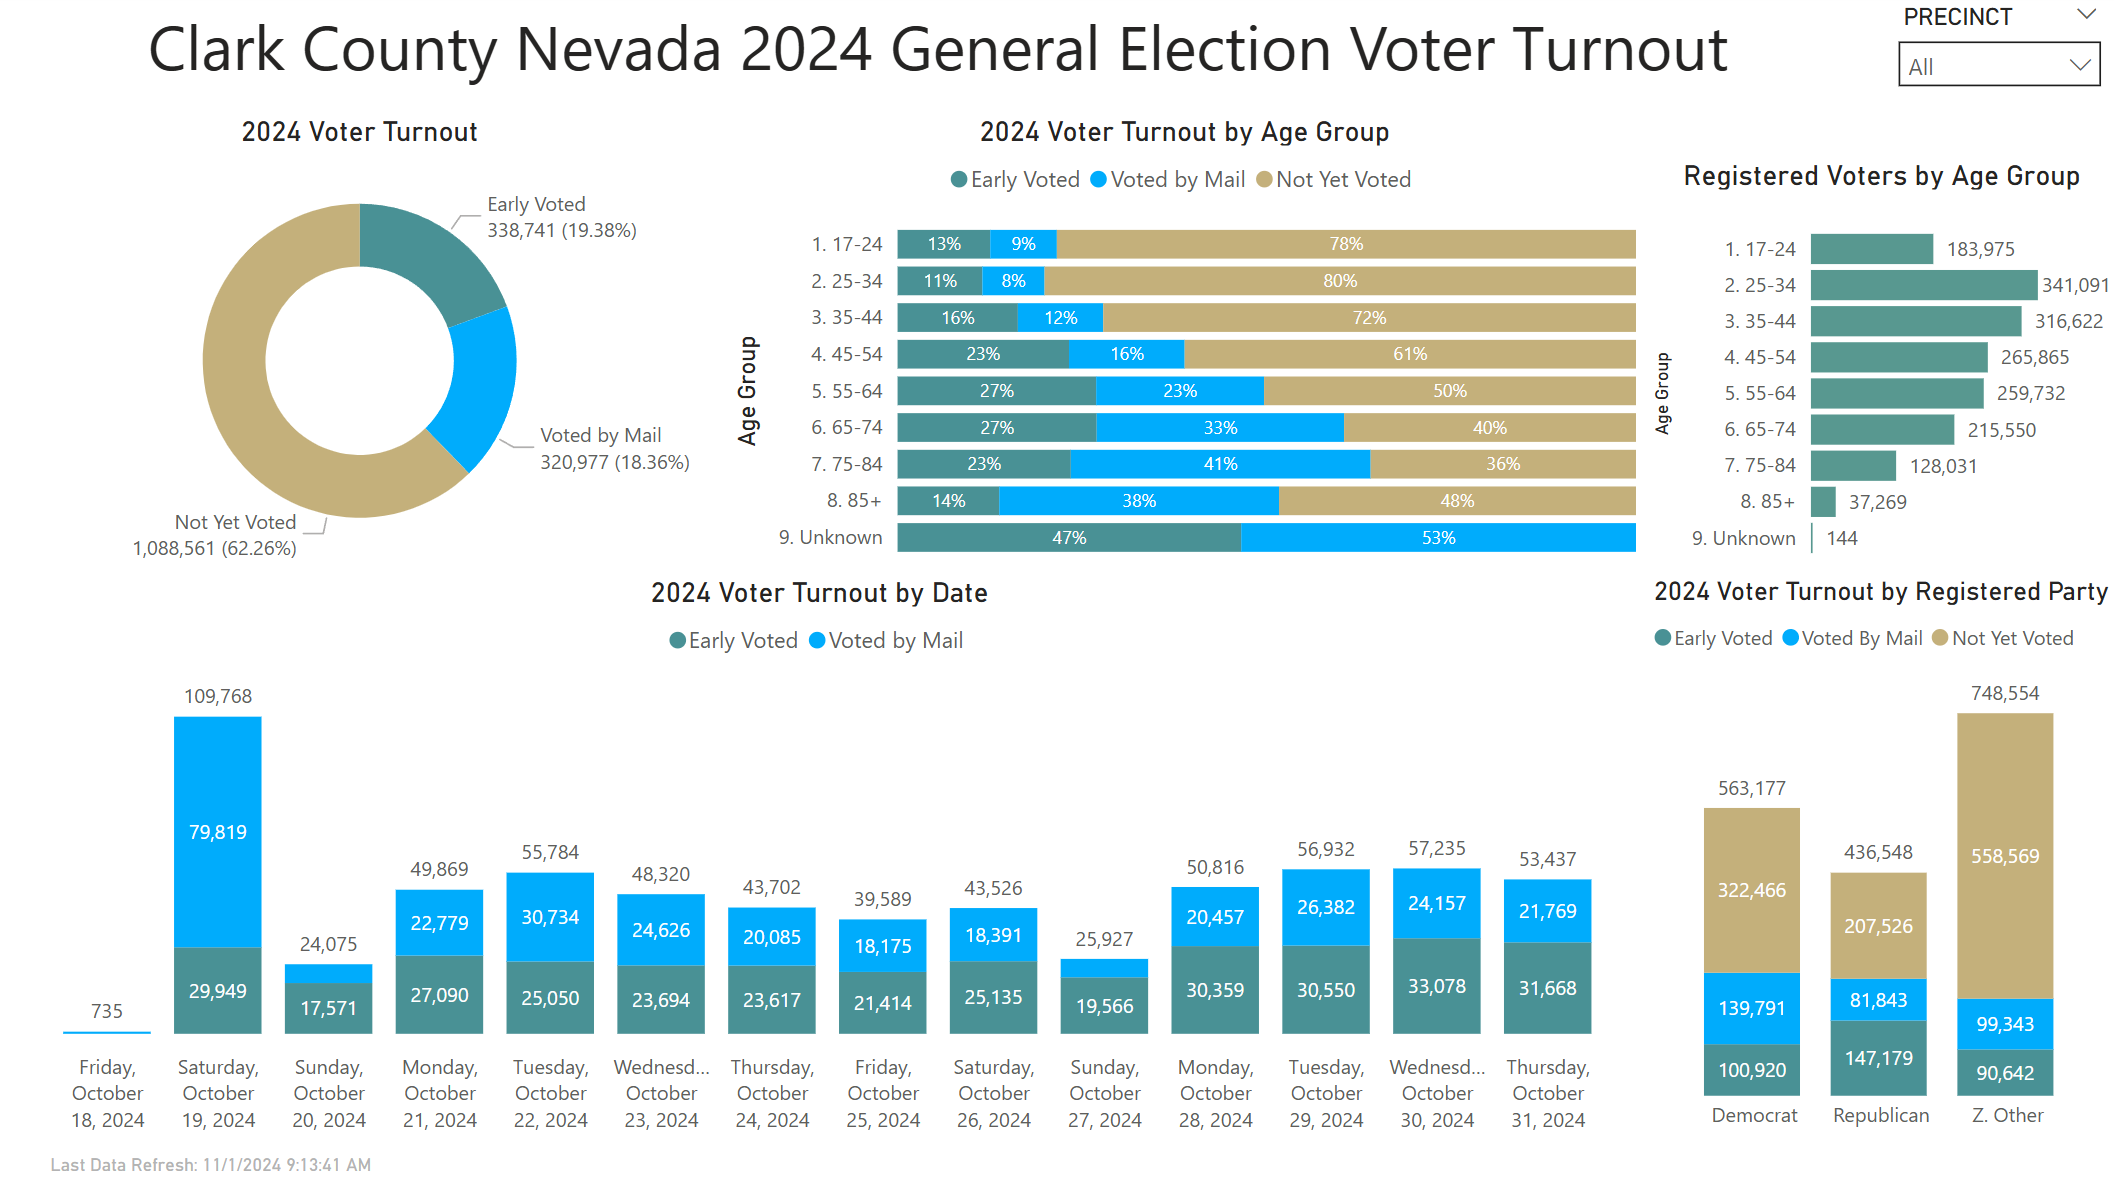

What the dashboard file says about the page in this screenshot:
{"tool":"powerbi","page":{"name":"Dashboard","canvas":[1280,720],"ordinal":0},"visuals":[{"type":"columnChart","title":"2024 Voter Turnout by Date","fields":{"Category":["VoteStatus_20241028.G2024_Voted_Date"],"Y":["Sum(VoteStatus_20241028.Voted_Early)","Sum(VoteStatus_20241028.Voted_Mail)"]},"box":[0,349.7,995.1,343.8],"z":0},{"type":"donutChart","title":"2024 Voter Turnout","fields":{"Y":["Sum(VoteStatus_20241028.Voted_Early)","Sum(VoteStatus_20241028.Voted_Mail)","Sum(VoteStatus_20241028.Not_Voted)"]},"box":[0,71.6,440.7,278.4],"z":1000},{"type":"hundredPercentStackedBarChart","title":"2024 Voter Turnout by Age Group","fields":{"Category":["VoteStatus_20241028.Age_Group"],"Y":["Sum(VoteStatus_20241028.Voted_Early)","Sum(VoteStatus_20241028.Voted_Mail)","Sum(VoteStatus_20241028.Not_Voted)"]},"box":[440.7,71.6,554.1,278.4],"z":2000},{"type":"textbox","title":"Title","box":[0,0,1138,71.6],"z":3000},{"type":"columnChart","title":"2024 Voter Turnout by Registered Party","fields":{"Category":["VoteStatus_20241028.PARTY"],"Y":["Sum(VoteStatus.Voted_Early)","Sum(VoteStatus.Voted_Mail)","Sum(VoteStatus.Not_Voted)"]},"box":[995.1,349.7,284.9,343.8],"z":4000},{"type":"slicer","title":"Precinct Slicer","fields":{"Values":["VoteStatus_20241028.PRECINCT"]},"box":[1138,0,142.4,59.8],"z":5000},{"type":"barChart","title":"Registered Voters by Age Group","fields":{"Category":["VoteStatus_20241028.Age_Group"],"Y":["Sum(VoteStatus.QTY)"]},"box":[994.8,97.9,285.6,252.1],"z":6000},{"type":"card","title":"Last Data Refresh","fields":{"Values":["Reload Time.Refresh Time Label"]},"box":[0,693.5,261.3,26.5],"z":7000}]}

Visuals, with their boxes in screenshot pixels (x1, y1, x2, y2), scaled from the page's 1280x720 canvas onto the 2114x1186 screenshot:
"2024 Voter Turnout by Date" columnChart: box=[0, 576, 1643, 1142]
"2024 Voter Turnout" donutChart: box=[0, 118, 728, 577]
"2024 Voter Turnout by Age Group" hundredPercentStackedBarChart: box=[728, 118, 1643, 577]
"Title" textbox: box=[0, 0, 1879, 118]
"2024 Voter Turnout by Registered Party" columnChart: box=[1643, 576, 2113, 1142]
"Precinct Slicer" slicer: box=[1879, 0, 2113, 99]
"Registered Voters by Age Group" barChart: box=[1643, 161, 2113, 577]
"Last Data Refresh" card: box=[0, 1142, 432, 1185]
